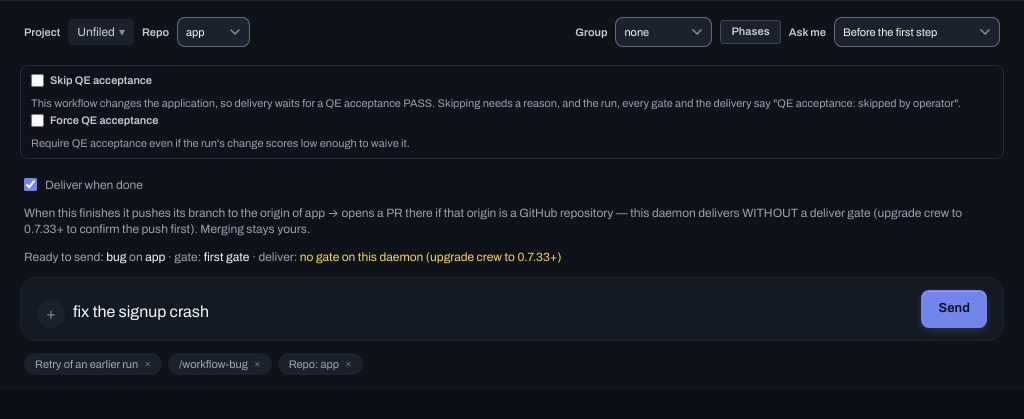
Test: the composer: a launch refused because QE acceptance is required › any other refusal keeps the plain error line
Click the button with test id "launch-submit" at coordinates (954, 308), box [922,290,987,328]
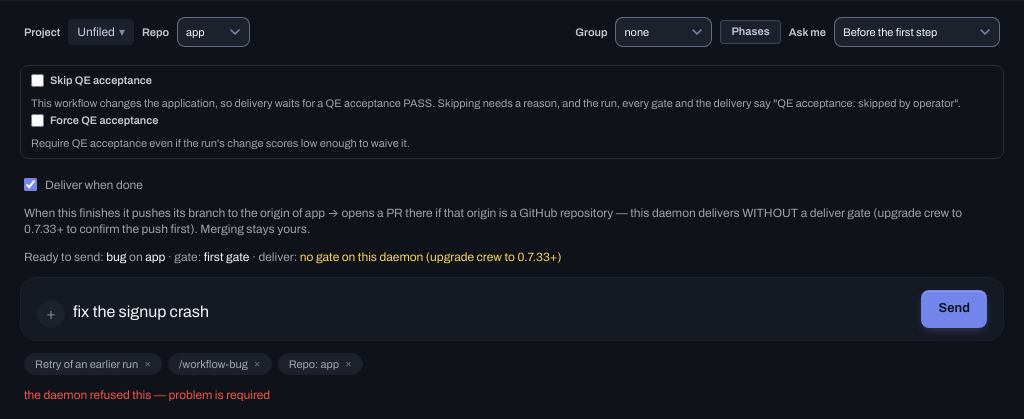
Expected: the text "the daemon refused this — problem is required" is shown, [24,388,270,402]
